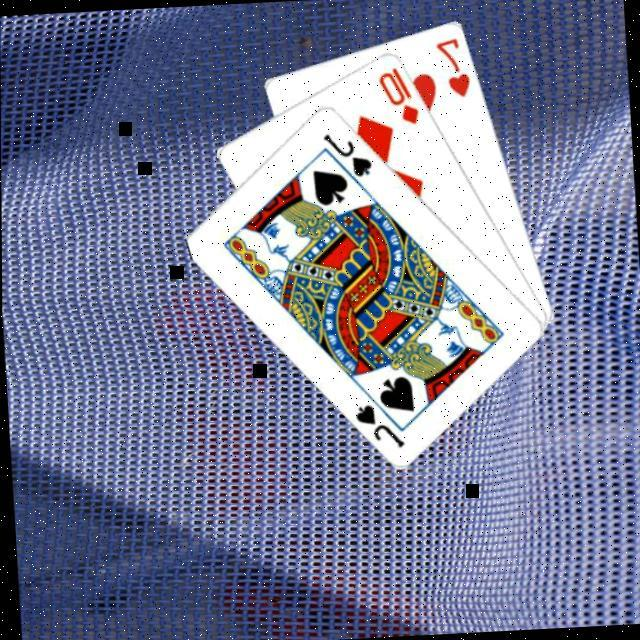10D: (376, 64, 423, 130)
7H: (434, 36, 474, 102)
JS: (320, 130, 377, 184), (351, 400, 408, 454)
